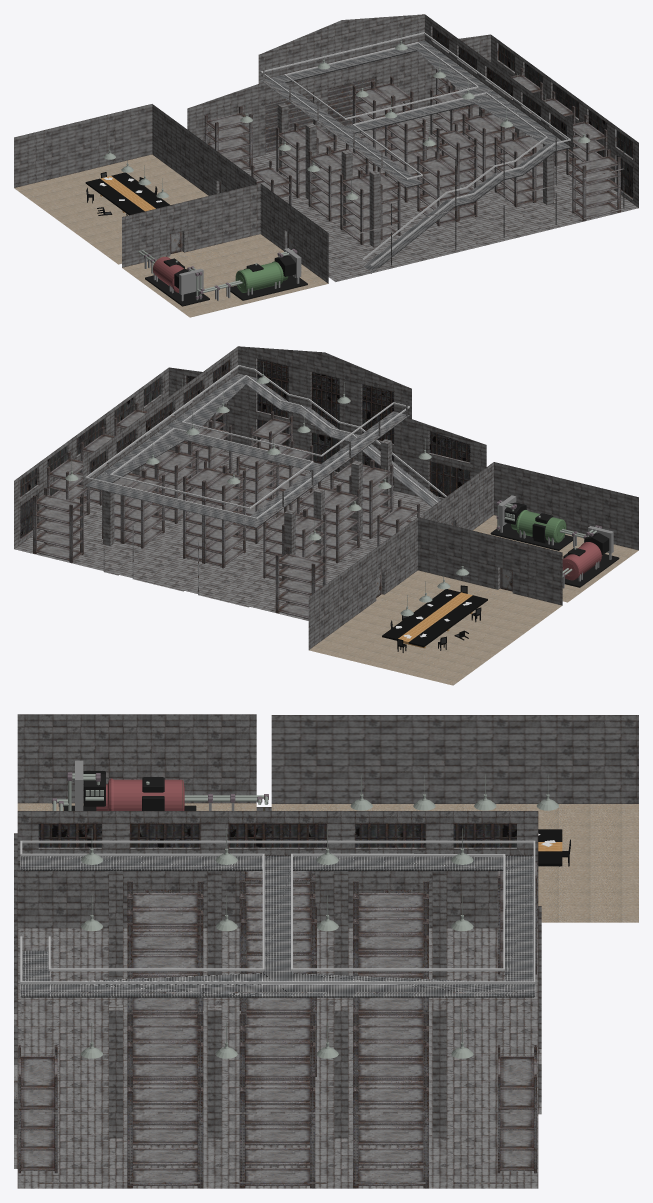
Rendered from TheCall_EDD_IS_BEING_PAINFUL.glb.
3 views of the same model, one above another, from view 1: azimuth 30°, elevation 25°; view 2: azimuth 150°, elevation 25°; view 3: azimuth 270°, elevation 25° (orthographic). The views are drawn at different scales.
Parts seen in each view (by area): view 1: Warehouse-col.010, Grate Staircase.001, Table.001, Ballistraide.002, Ballistraide.003, Generator.038, Ballistraide.001, Warehouse-col.018, Generator.045, Warehouse-col.017, Generator.115, Generator.108 (+8 smaller); view 2: Warehouse-col.010, Grate Staircase.001, Table.001, Ballistraide.002, Ballistraide.003, Ballistraide.001, Generator.038, Generator.108, Generator.045, Warehouse-col.012, Warehouse-col.015, Warehouse-col.016 (+4 smaller); view 3: Warehouse-col.010, Grate Staircase.001, Ballistraide.002, Ballistraide.003, Ballistraide.001, Warehouse-col.012, Warehouse-col.013, Warehouse-col.011, Generator.108, Warehouse-col.014, Warehouse-col.016, Warehouse-col.017 (+54 smaller).
Boxes of the visible parts, bbox=[...] form: Warehouse-col.010: bbox=[14, 14, 638, 317]; Grate Staircase.001: bbox=[261, 40, 570, 273]; Table.001: bbox=[85, 172, 170, 215]; Ballistraide.002: bbox=[260, 32, 570, 265]; Ballistraide.003: bbox=[352, 92, 547, 259]; Generator.038: bbox=[235, 261, 288, 292]; Ballistraide.001: bbox=[284, 42, 478, 119]; Warehouse-col.018: bbox=[369, 170, 380, 247]; Generator.045: bbox=[230, 275, 307, 300]; Warehouse-col.017: bbox=[305, 123, 316, 199]; Generator.115: bbox=[145, 275, 209, 306]; Generator.108: bbox=[152, 256, 183, 292]; Warehouse-col.010: bbox=[14, 346, 638, 685]; Grate Staircase.001: bbox=[85, 373, 441, 527]; Table.001: bbox=[382, 589, 487, 647]; Ballistraide.002: bbox=[85, 365, 446, 519]; Ballistraide.003: bbox=[181, 375, 438, 503]; Ballistraide.001: bbox=[110, 428, 313, 509]; Generator.038: bbox=[511, 510, 566, 542]; Generator.108: bbox=[562, 542, 602, 580]; Generator.045: bbox=[490, 523, 572, 550]; Warehouse-col.012: bbox=[103, 482, 114, 545]; Warehouse-col.015: bbox=[351, 460, 362, 540]; Warehouse-col.016: bbox=[284, 509, 295, 579]; Warehouse-col.010: bbox=[14, 714, 638, 1188]; Grate Staircase.001: bbox=[20, 855, 535, 997]; Ballistraide.002: bbox=[20, 840, 535, 984]; Ballistraide.003: bbox=[20, 853, 264, 971]; Ballistraide.001: bbox=[291, 853, 505, 971]; Warehouse-col.012: bbox=[432, 1004, 446, 1138]; Warehouse-col.013: bbox=[334, 1004, 348, 1138]; Warehouse-col.011: bbox=[207, 1004, 221, 1138]; Generator.108: bbox=[96, 778, 184, 810]; Warehouse-col.014: bbox=[109, 1004, 122, 1138]; Warehouse-col.016: bbox=[432, 871, 446, 979]; Warehouse-col.017: bbox=[334, 871, 348, 975].
Size of the model in its own units: 81.56 by 20.36 by 55.69.
24 materials, 14 textured.
